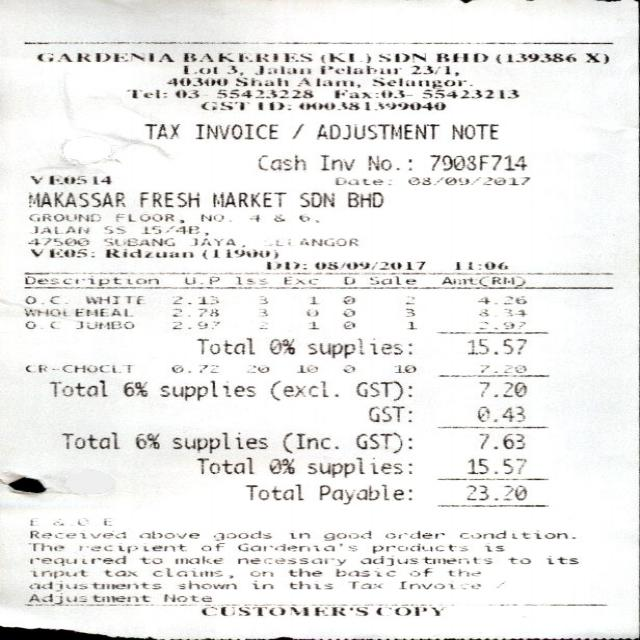text: (306, 338, 410, 358), (306, 456, 410, 476), (170, 431, 265, 452), (317, 483, 410, 504), (159, 380, 253, 400), (315, 124, 436, 138), (428, 154, 525, 170), (26, 190, 123, 206), (200, 606, 366, 615), (298, 100, 445, 110), (34, 52, 172, 62), (22, 276, 157, 286), (27, 592, 149, 603), (269, 380, 336, 400), (358, 554, 490, 564), (27, 580, 159, 590), (194, 122, 276, 138), (182, 52, 310, 62), (354, 431, 410, 452), (211, 190, 284, 206), (370, 76, 464, 88), (354, 380, 410, 400), (280, 432, 336, 452), (236, 542, 354, 551), (370, 542, 466, 553), (463, 484, 527, 500), (312, 260, 423, 269), (75, 543, 185, 552), (47, 379, 105, 396), (235, 556, 343, 565), (195, 337, 252, 354), (459, 529, 566, 538), (421, 88, 517, 98), (466, 338, 526, 354), (29, 554, 124, 564), (59, 432, 118, 448), (138, 190, 196, 206), (243, 484, 301, 500), (466, 457, 526, 472), (494, 52, 574, 63), (214, 88, 311, 97), (23, 364, 132, 372), (405, 177, 527, 184), (476, 405, 526, 422), (194, 457, 250, 472), (256, 154, 306, 170), (477, 432, 524, 449), (477, 380, 526, 396), (200, 248, 276, 258), (440, 276, 522, 285), (27, 174, 108, 183), (397, 579, 478, 588), (104, 248, 191, 256), (151, 566, 220, 576), (448, 124, 496, 138), (367, 405, 409, 421), (29, 530, 124, 537), (27, 212, 98, 221), (294, 77, 357, 87), (113, 213, 182, 222), (373, 606, 442, 615), (320, 65, 396, 73), (334, 89, 409, 97), (212, 530, 270, 540), (101, 237, 172, 245), (319, 52, 370, 63), (252, 64, 308, 74), (345, 190, 380, 206), (165, 76, 227, 85), (298, 190, 332, 206), (383, 529, 442, 538), (319, 153, 352, 169), (138, 529, 196, 538), (434, 52, 486, 62), (29, 248, 94, 256), (74, 319, 131, 328), (144, 122, 176, 138), (376, 52, 425, 62), (477, 294, 526, 304), (321, 530, 370, 540), (232, 76, 286, 85), (452, 260, 506, 269), (408, 64, 456, 74), (198, 100, 246, 110), (366, 274, 414, 284), (169, 294, 216, 304), (138, 225, 196, 233), (298, 237, 356, 245), (334, 568, 392, 576), (84, 295, 140, 303), (30, 569, 84, 577), (25, 237, 86, 244), (478, 320, 525, 329), (266, 457, 292, 473), (74, 307, 125, 315), (134, 432, 157, 449), (32, 225, 87, 232), (187, 237, 235, 245), (478, 308, 526, 316), (170, 320, 218, 328), (477, 364, 525, 372), (170, 364, 218, 372), (120, 380, 144, 396), (172, 555, 220, 563), (162, 594, 210, 602), (169, 308, 216, 316), (267, 338, 292, 353), (288, 579, 329, 588), (281, 274, 317, 284), (265, 260, 304, 269), (126, 88, 164, 97), (177, 582, 234, 588), (366, 155, 390, 169), (334, 177, 381, 184), (23, 307, 64, 315), (182, 275, 218, 284), (27, 542, 63, 551), (235, 274, 265, 284), (256, 101, 288, 110), (583, 52, 608, 63), (181, 64, 214, 72), (286, 567, 319, 575), (350, 579, 379, 588), (447, 568, 478, 576), (409, 566, 430, 576), (172, 89, 198, 97), (22, 296, 56, 302), (200, 541, 222, 550), (101, 570, 134, 576), (546, 556, 576, 562), (102, 225, 124, 233), (294, 364, 316, 372), (392, 364, 414, 372), (290, 123, 301, 138), (224, 64, 240, 74), (200, 213, 222, 220), (248, 364, 266, 372), (138, 556, 161, 562), (248, 570, 271, 576), (286, 532, 308, 538), (506, 556, 528, 562), (250, 582, 272, 588), (341, 274, 354, 284), (270, 212, 284, 221), (342, 294, 354, 304), (483, 544, 503, 550), (47, 319, 60, 328), (307, 294, 318, 304), (296, 212, 308, 221), (75, 517, 88, 525), (49, 517, 62, 525), (256, 294, 266, 304), (101, 516, 111, 526), (24, 319, 35, 328), (27, 516, 38, 525), (402, 308, 414, 316), (342, 320, 354, 328), (342, 364, 354, 372), (404, 294, 413, 304), (342, 308, 353, 316), (307, 320, 318, 328), (406, 320, 415, 329), (248, 214, 259, 221), (305, 309, 316, 315), (257, 308, 265, 316), (258, 320, 266, 328)
